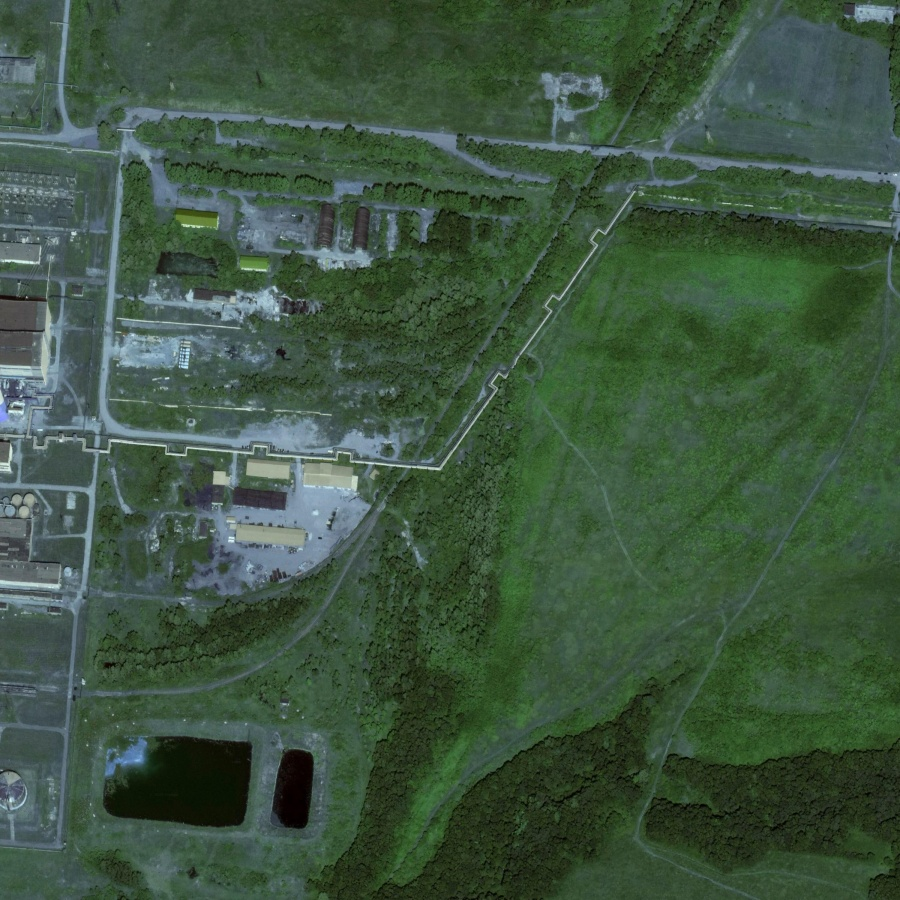PowerPlant: (93, 722, 327, 849)
